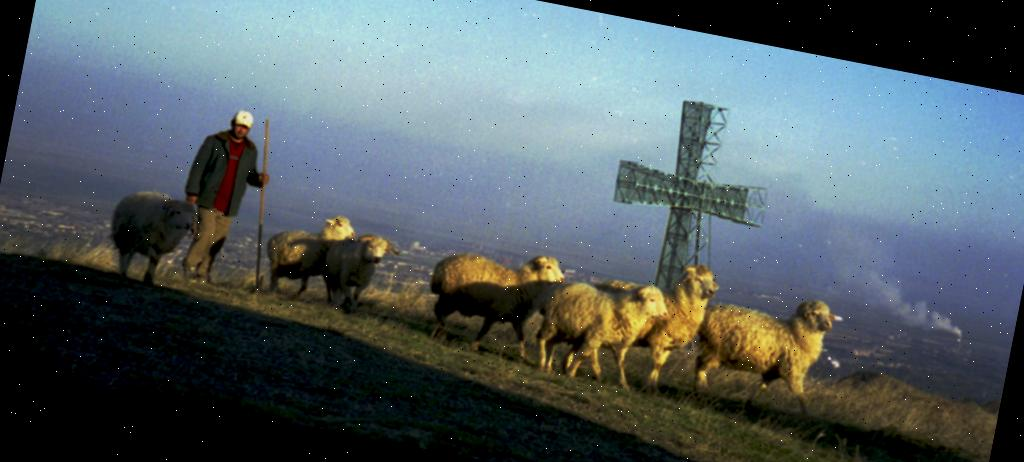Sheep: (686, 282, 844, 420), (502, 261, 641, 393), (594, 249, 724, 390), (423, 226, 561, 357), (102, 186, 206, 294), (256, 200, 357, 311), (322, 219, 400, 316)
